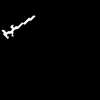double_crochet: (2, 16, 34, 37)
